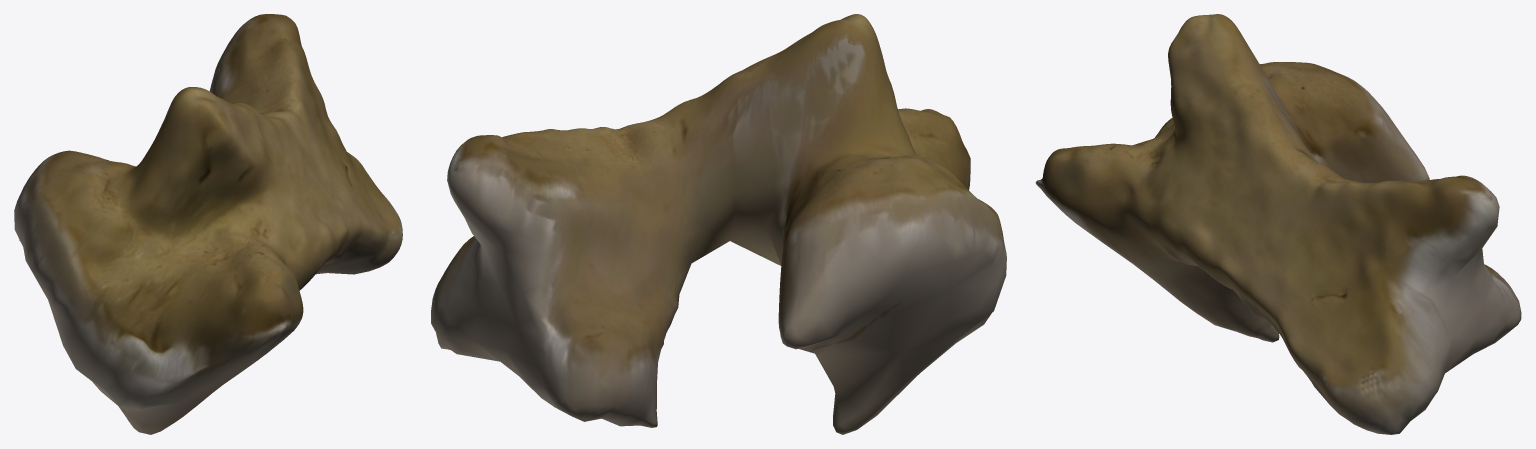
The picture shows the model from 3 angles, left to right: view 1: azimuth 30°, elevation 25°; view 2: azimuth 150°, elevation 25°; view 3: azimuth 270°, elevation 25°; orthographic projection. The views are drawn at different scales.
Bounding box in the file's own units: 0.4351 × 0.3426 × 0.4435.
1 material, 1 textured.
